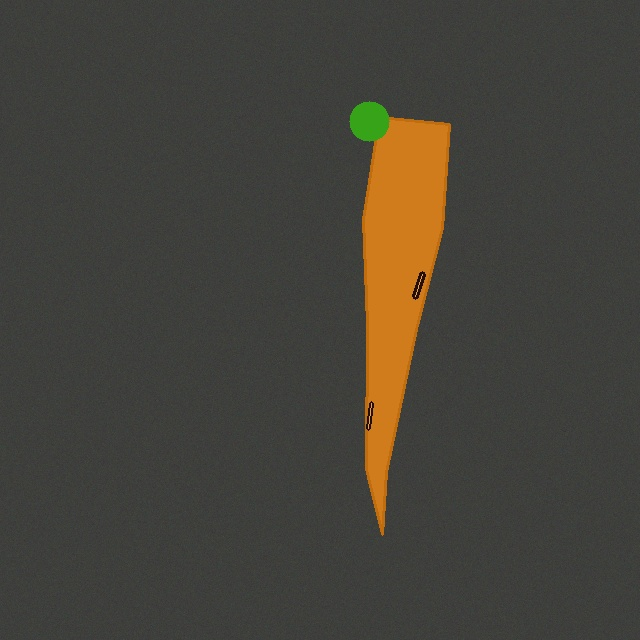Damaged_Carrot: (355, 109, 457, 542)
